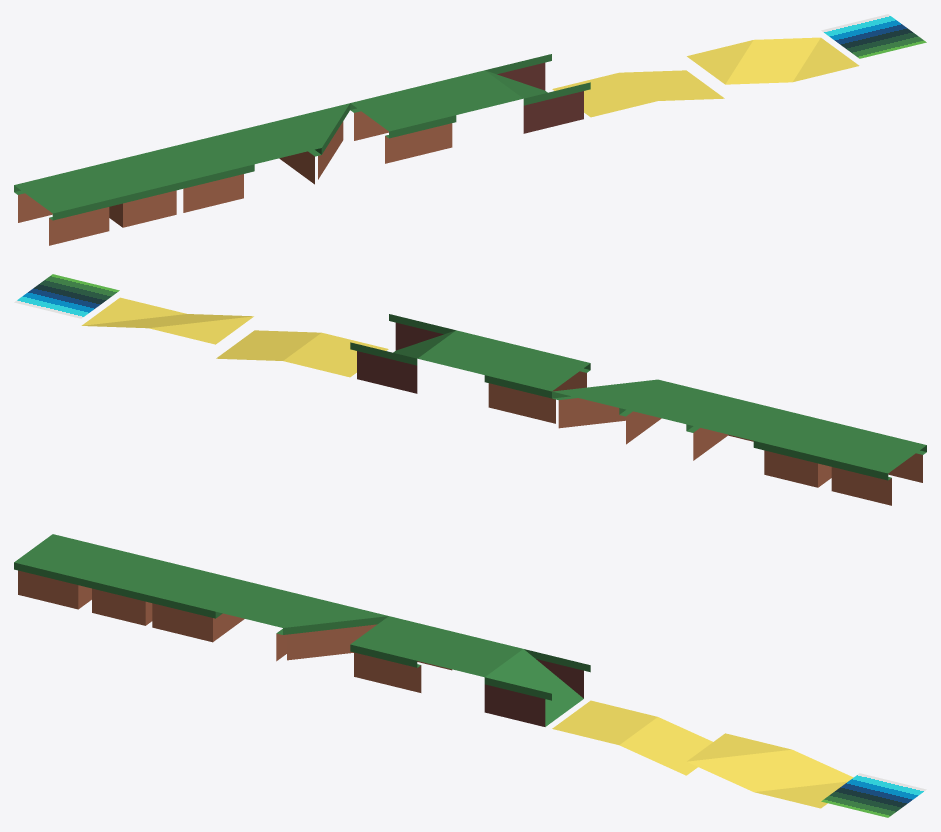
File: Tiles.dae
3 views of the same model, one above another, from view 1: azimuth 30°, elevation 25°; view 2: azimuth 150°, elevation 25°; view 3: azimuth 330°, elevation 25° (orthographic).
Parts seen in each view (by area): view 1: Hill_Opposite_Edges, Hill_3_Edges, Hill_4_Edges, Hill_Corner, Hill_Ramp, Hill_1_Edge, Sand_Diagonal_2, Sand_Diagonal, Hill_Flat, Water, Sand, Sand_Edge (+1 smaller); view 2: Hill_3_Edges, Hill_Opposite_Edges, Hill_4_Edges, Hill_Ramp, Hill_Corner, Hill_1_Edge, Hill_Diagonal, Hill_Flat, Water, Sand, Sand_Edge, Sand_Diagonal_2 (+1 smaller); view 3: Hill_Ramp, Hill_Corner, Hill_Opposite_Edges, Hill_3_Edges, Hill_4_Edges, Hill_Diagonal, Sand_Diagonal, Sand_Diagonal_2, Hill_1_Edge, Sand_Edge, Sand, Water (+1 smaller).
Part boxes in pixels (x1,y1,x2,y2): Hill_Opposite_Edges: (350, 86, 456, 163); Hill_3_Edges: (14, 169, 119, 245); Hill_4_Edges: (81, 152, 187, 227); Hill_Corner: (149, 136, 254, 212); Hill_Ramp: (485, 54, 590, 133); Hill_1_Edge: (216, 119, 321, 184); Sand_Diagonal_2: (754, 37, 859, 82); Sand_Diagonal: (687, 40, 791, 84); Hill_Flat: (418, 70, 522, 114); Water: (821, 14, 926, 58); Sand: (552, 73, 657, 117); Sand_Edge: (619, 70, 724, 100); Hill_3_Edges: (821, 429, 926, 505); Hill_Opposite_Edges: (484, 346, 590, 423); Hill_4_Edges: (753, 412, 859, 487); Hill_Ramp: (350, 314, 455, 393); Hill_Corner: (686, 396, 791, 460); Hill_1_Edge: (619, 379, 724, 444); Hill_Diagonal: (552, 379, 657, 428); Hill_Flat: (418, 330, 522, 374); Water: (14, 274, 119, 318); Sand: (283, 333, 388, 377); Sand_Edge: (216, 330, 321, 360); Sand_Diagonal_2: (81, 297, 186, 328); Hill_Ramp: (484, 649, 590, 726); Hill_Corner: (148, 567, 254, 642); Hill_Opposite_Edges: (350, 616, 455, 692); Hill_3_Edges: (14, 534, 119, 609); Hill_4_Edges: (81, 550, 186, 625); Hill_Diagonal: (283, 599, 388, 660); Sand_Diagonal: (686, 733, 791, 791); Sand_Diagonal_2: (754, 750, 853, 808); Hill_1_Edge: (216, 583, 321, 661); Sand_Edge: (619, 717, 712, 775); Sand: (552, 700, 657, 744); Water: (821, 773, 926, 817).
Bounding box in the file's own units: 26 × 2 × 1.4.
1 material, 1 textured.
